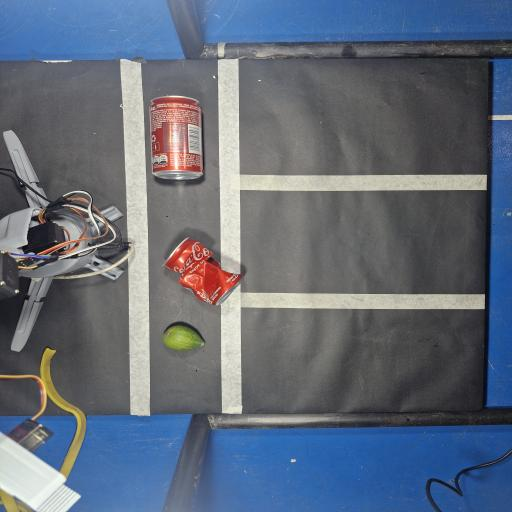higo: (163, 325, 205, 351)
lata: (150, 96, 203, 179)
lata_defectuoso: (165, 239, 242, 305)
